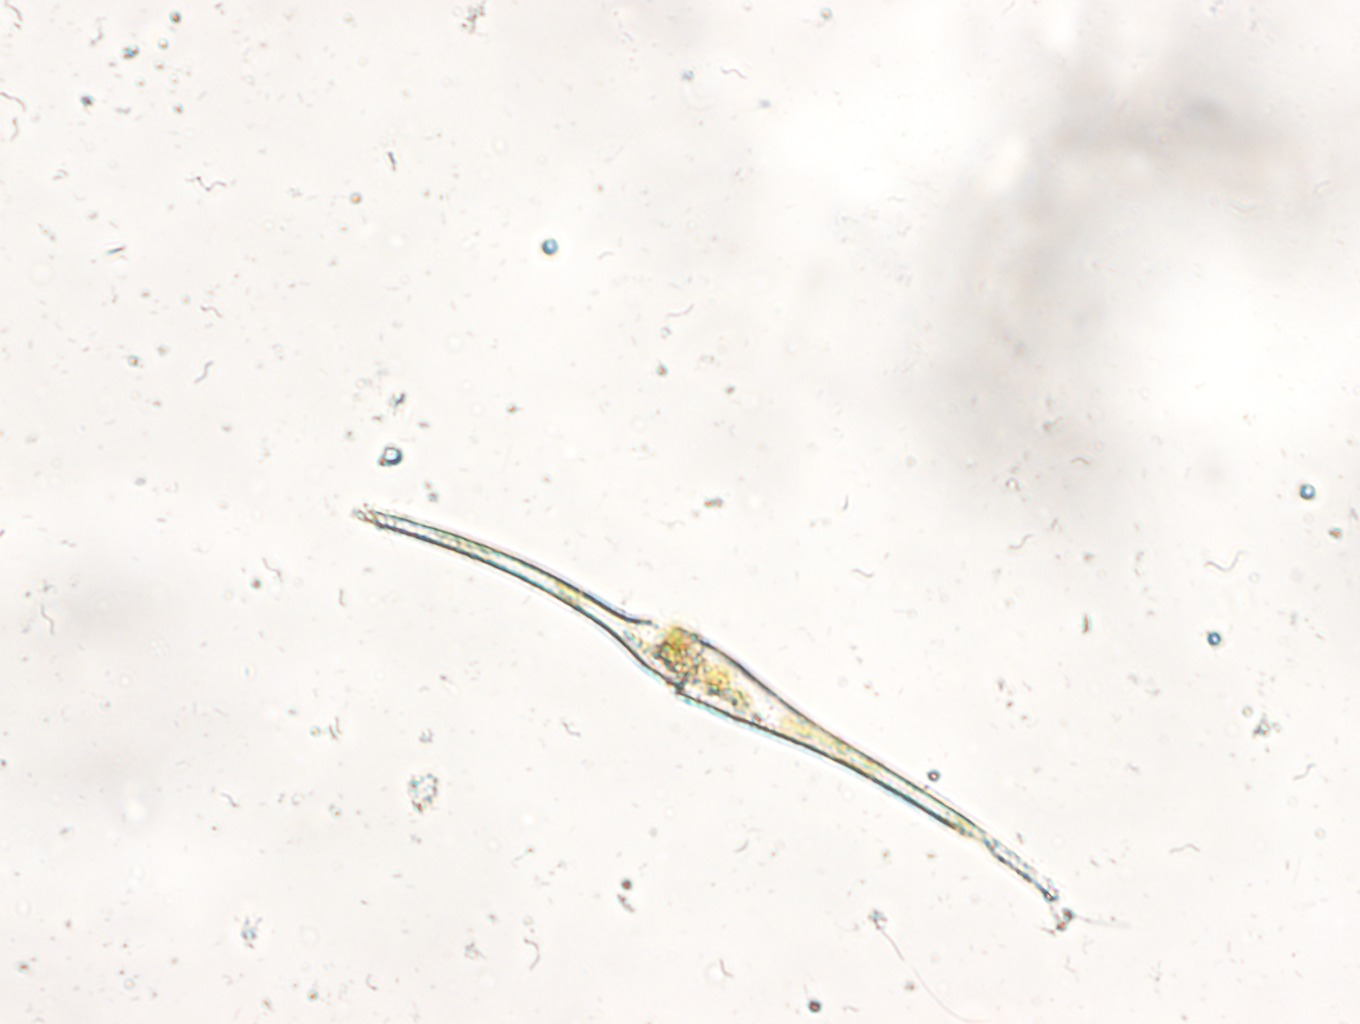ceratium fusus: (350, 499, 1063, 910)
